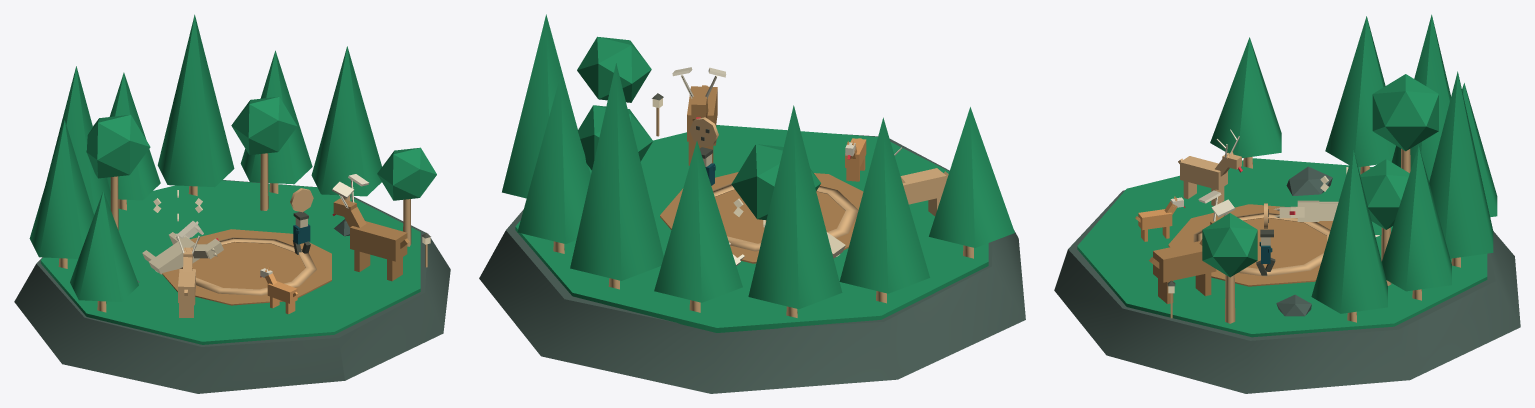
The model's file is wild-clearing.glb.
3 views of the same model, side by side, from view 1: azimuth 30°, elevation 25°; view 2: azimuth 150°, elevation 25°; view 3: azimuth 270°, elevation 25° (orthographic). The views are drawn at different scales.
Parts seen in each view (by area): view 1: WildClearing, Pine (×7), Tree (×3), Body (×4), Runner; view 2: WildClearing, Pine (×7), Tree (×3), Body (×3), Runner; view 3: WildClearing, Pine (×7), Tree (×3), Body (×4), Runner.
Boxes of the visible parts, <box> form: WildClearing: <box>14,180,450,393</box>; Pine (×7): <box>29,14,381,312</box>; Tree (×3): <box>86,96,436,246</box>; Body (×4): <box>142,174,409,317</box>; Runner: <box>290,188,313,254</box>; WildClearing: <box>479,125,1025,393</box>; Pine (×7): <box>502,14,1014,317</box>; Tree (×3): <box>577,36,820,220</box>; Body (×3): <box>672,67,948,216</box>; Runner: <box>689,117,718,185</box>; WildClearing: <box>1054,158,1520,393</box>; Pine (×7): <box>1210,14,1497,322</box>; Tree (×3): <box>1202,74,1438,323</box>; Body (×4): <box>1135,129,1338,303</box>; Runner: <box>1256,203,1275,275</box>.
Size of the model in its own units: 14.9 by 8.14 by 14.34.
